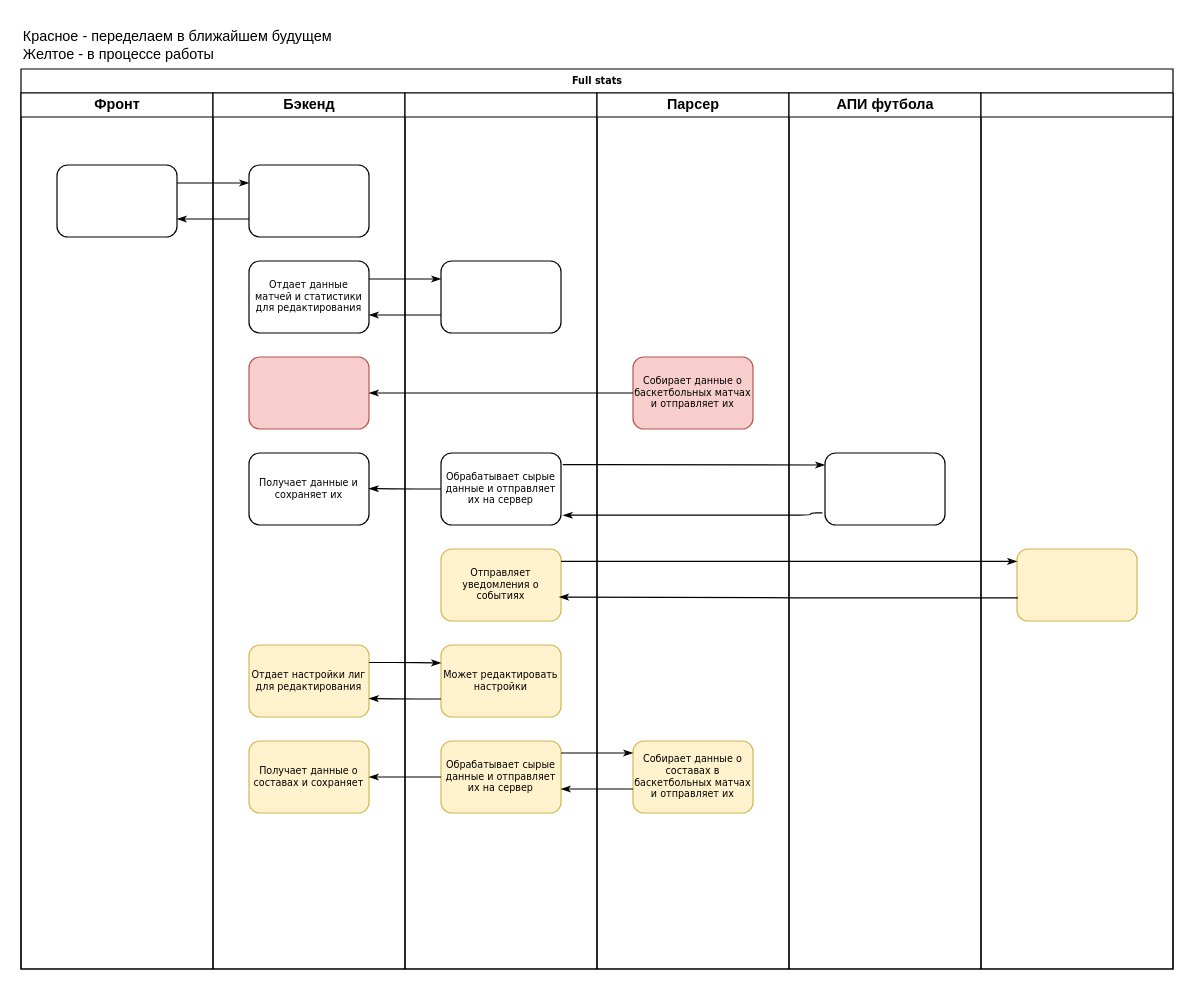
Some shapes in this 1194 by 990 pixel diagram are drawn without their labels. Each missing label, with the box of its shape:
Админка: (404, 92, 597, 969)
Занимается обработкой визуальной составляющей: (56, 164, 177, 237)
Информирует пользователей: (1016, 548, 1137, 621)
Обрабатывает данные, может их редактировать: (440, 260, 561, 333)
Отдает данные для визуализации: (248, 164, 369, 237)
Отдает сырые данные о результатах: (824, 452, 945, 525)
Получает данные о матчах и сохраняет: (248, 356, 369, 429)
Телеграмм: (980, 92, 1173, 969)
